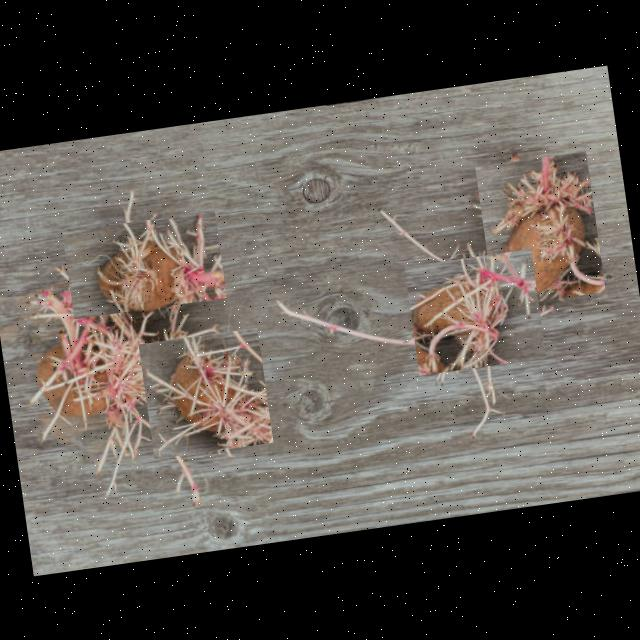Sprouted potato: (474, 150, 605, 306), (404, 248, 546, 375), (61, 210, 226, 318), (138, 326, 272, 458), (23, 318, 140, 432)
